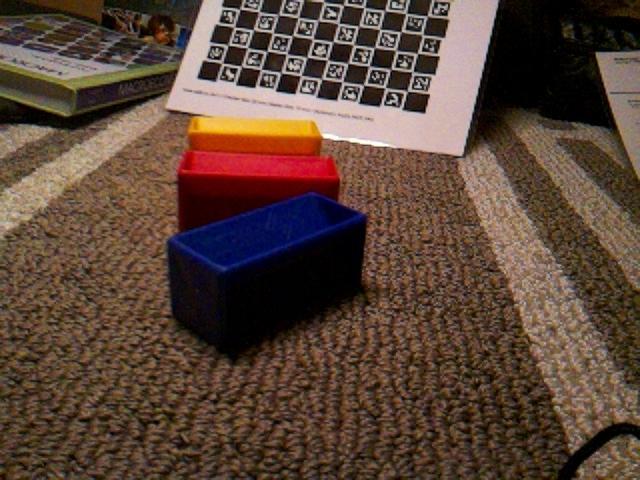blue: (165, 190, 369, 354)
red: (176, 148, 342, 232)
yellow: (186, 115, 324, 156)
